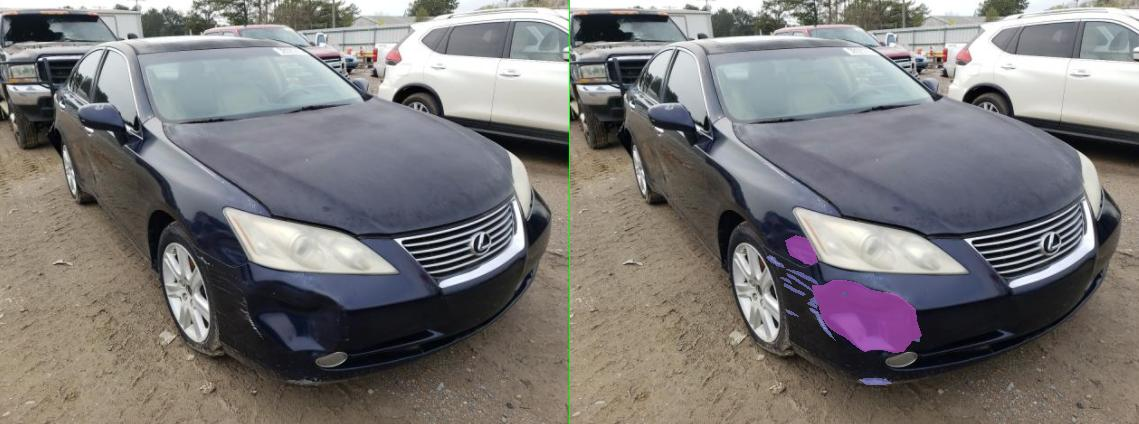Dent: (484, 280, 703, 352), (430, 235, 494, 264)
Scratch: (432, 273, 488, 292), (492, 314, 530, 340), (432, 269, 494, 284), (428, 283, 470, 295), (392, 255, 428, 267), (579, 378, 643, 384), (430, 309, 456, 316), (474, 301, 494, 308), (420, 277, 442, 283), (478, 308, 496, 315), (478, 297, 494, 304), (693, 337, 699, 341), (544, 292, 552, 295)
